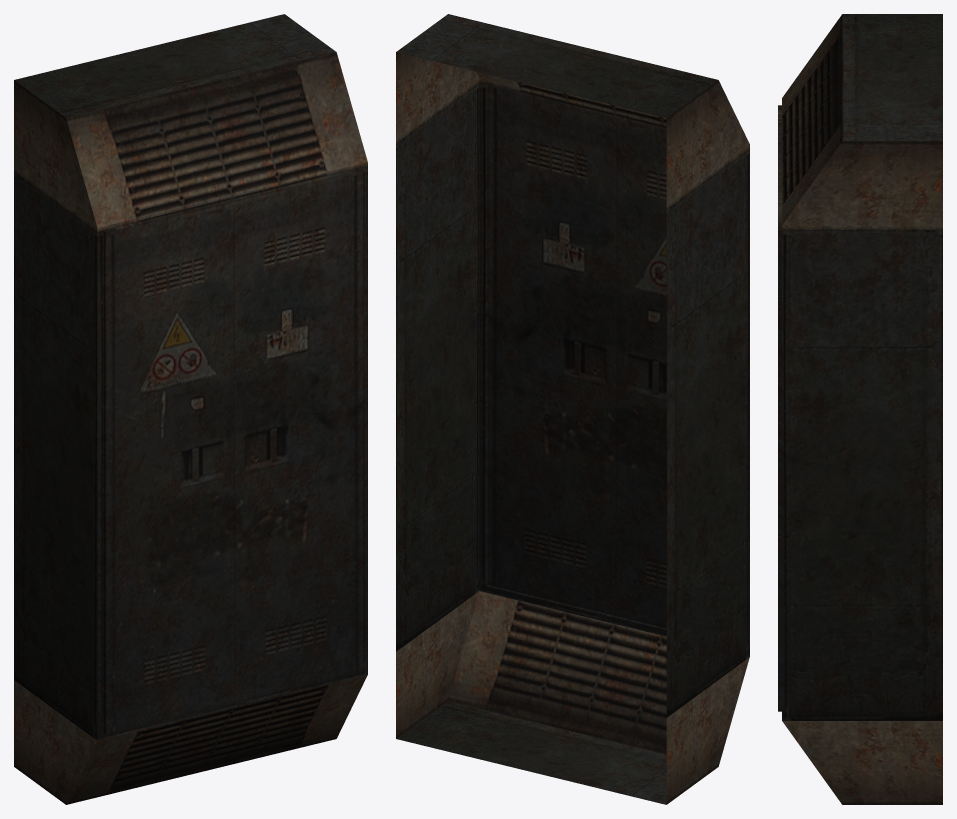
Rendered from electrical_equipment_1.dae.
3 renders of one model, left to right at view 1: azimuth 30°, elevation 25°; view 2: azimuth 150°, elevation 25°; view 3: azimuth 270°, elevation 25°, orthographic. The views are drawn at different scales.
Parts seen in each view (by area): view 1: electrical_equipment_1; view 2: electrical_equipment_1; view 3: electrical_equipment_1.
Part boxes in pixels (bbox=[...]): electrical_equipment_1: bbox=[14, 14, 367, 804]; electrical_equipment_1: bbox=[396, 14, 749, 804]; electrical_equipment_1: bbox=[778, 14, 942, 804].
Bounding box in the file's own units: 1.2 × 0.656 × 2.91.
Materials: 1 (1 with a texture image).
